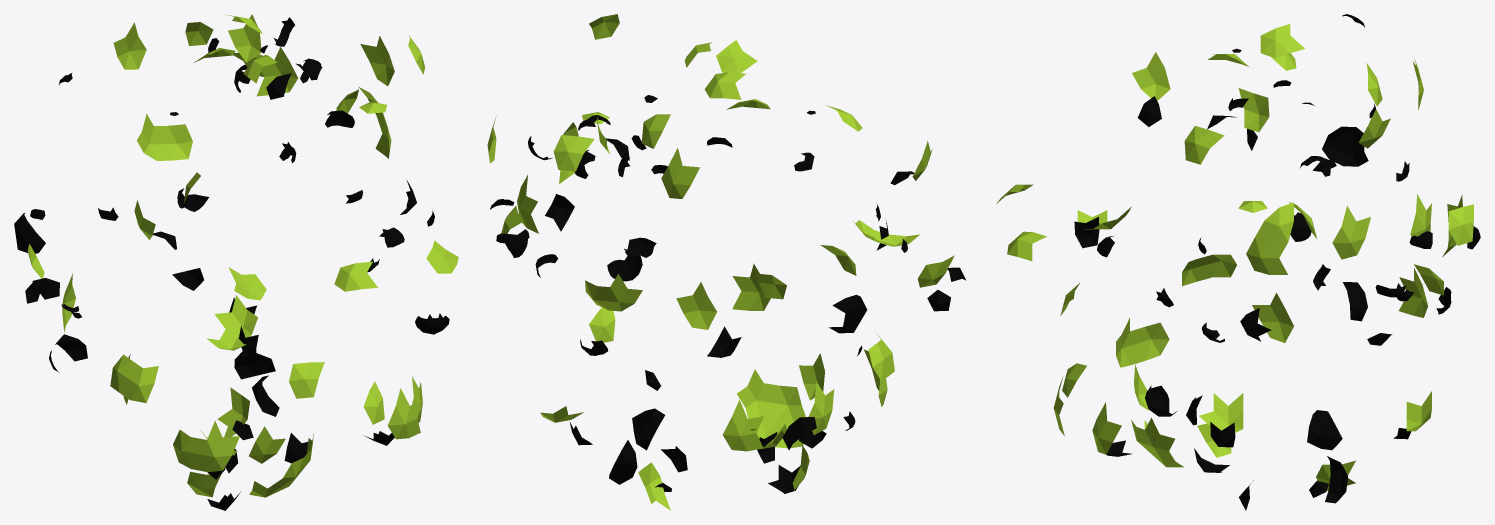
Rendered from explode.f0010.glb.
The picture shows the model from 3 angles, left to right: view 1: azimuth 30°, elevation 25°; view 2: azimuth 150°, elevation 25°; view 3: azimuth 270°, elevation 25°; orthographic projection. The views are drawn at different scales.
Visible parts, largest first — view 1: Body.001; view 2: Body.001; view 3: Body.001.
Part boxes in pixels (<box>): Body.001: <box>14,14,458,510</box>; Body.001: <box>487,14,966,510</box>; Body.001: <box>996,14,1480,510</box>.
Bounding box in the file's own units: 8.2 × 8.7 × 8.18.
Materials: 1 (1 with a texture image).
